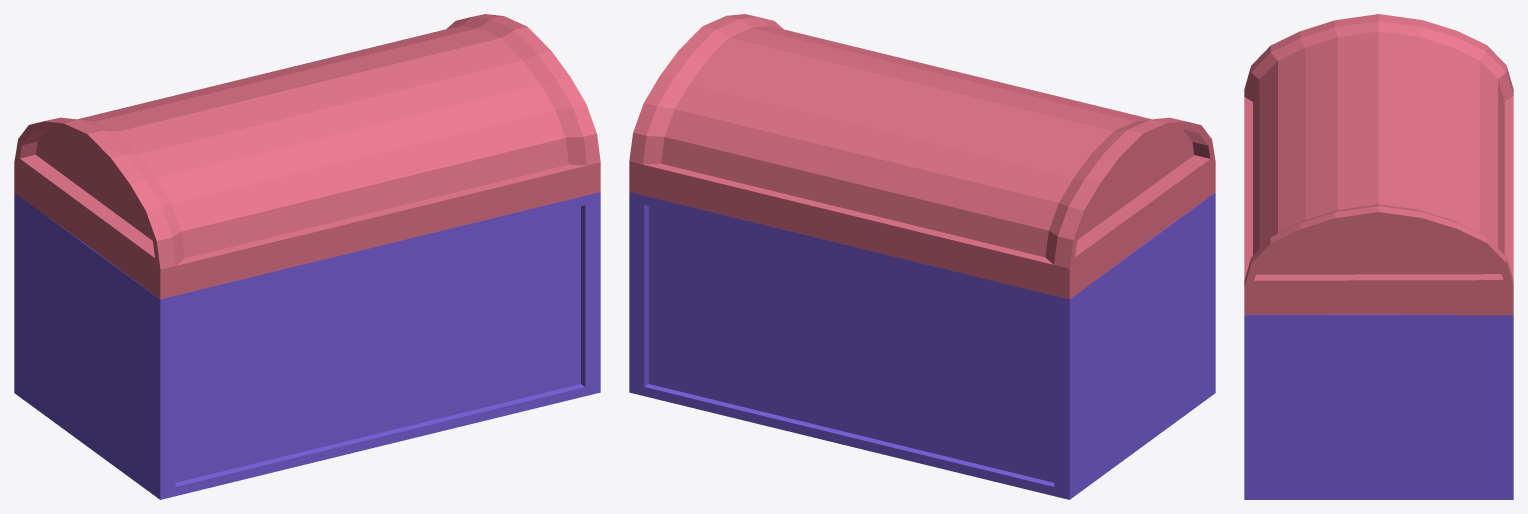
Rendered from chest_closed.fbx.
3 renders of one model, left to right at view 1: azimuth 30°, elevation 25°; view 2: azimuth 150°, elevation 25°; view 3: azimuth 270°, elevation 25°, orthographic. The views are drawn at different scales.
Visible parts, largest first — view 1: chest bottom, chest top; view 2: chest bottom, chest top; view 3: chest top, chest bottom.
Boxes of the visible parts, x1,y1,x2,y2 form: chest bottom: (14,192,600,499); chest top: (14,14,600,299); chest bottom: (629,192,1215,499); chest top: (629,14,1215,299); chest top: (1244,14,1513,315); chest bottom: (1244,314,1513,499).
Size of the model in its own units: 0.4037 by 0.476 by 0.702.
